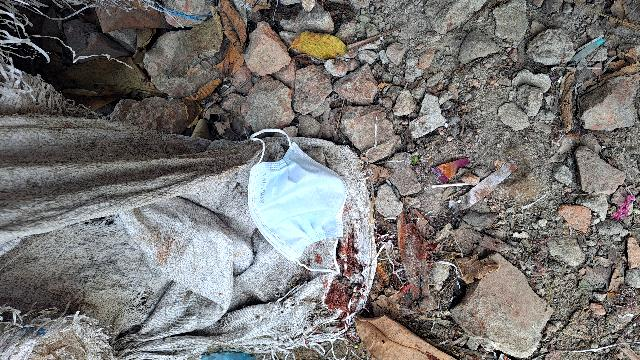mask: (253, 154, 346, 251)
